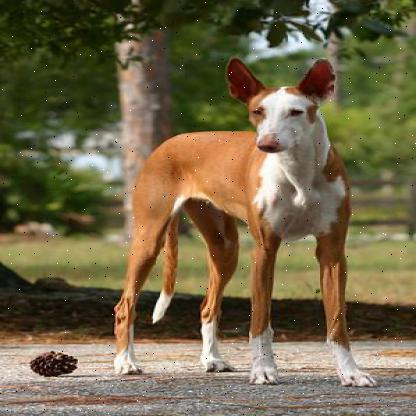dog: (95, 46, 384, 408)
